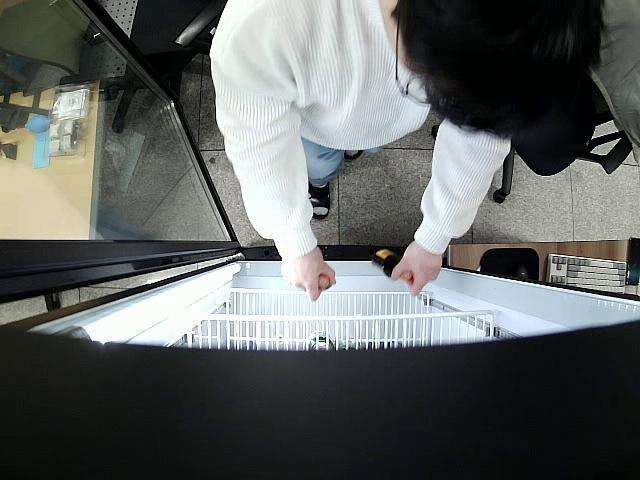17_vita500: (370, 248, 414, 286), (316, 271, 333, 294)
